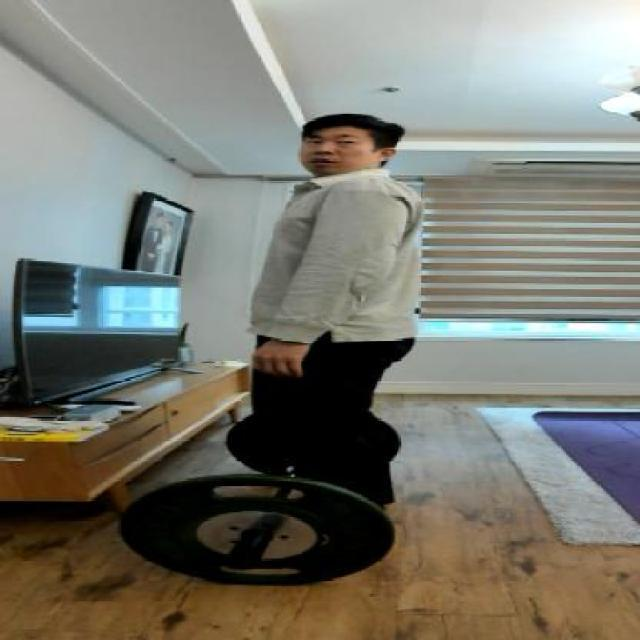barbell: (108, 466, 412, 594)
